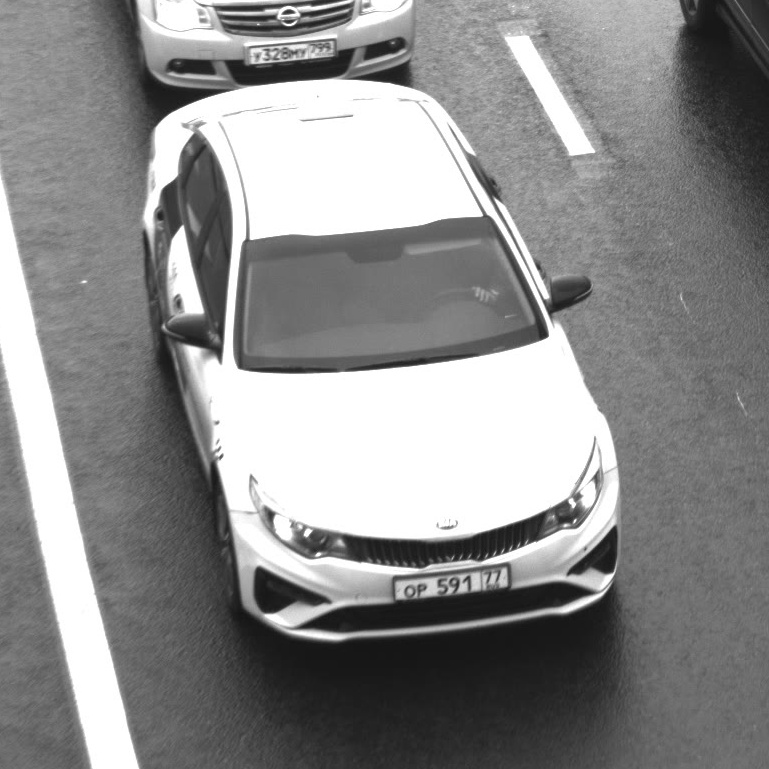plate: (383, 551, 517, 609)
